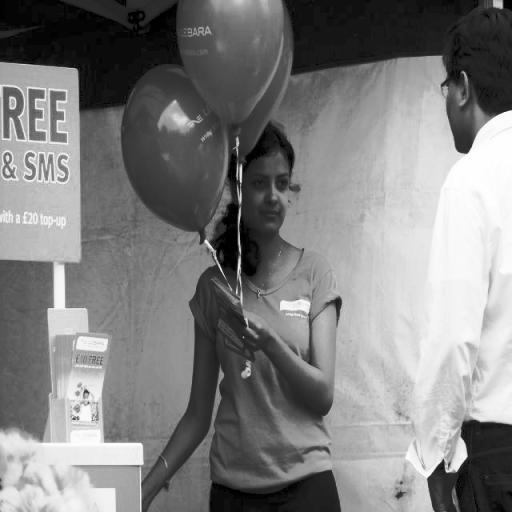balloon: (122, 66, 228, 234), (177, 0, 281, 126), (228, 5, 292, 155)
